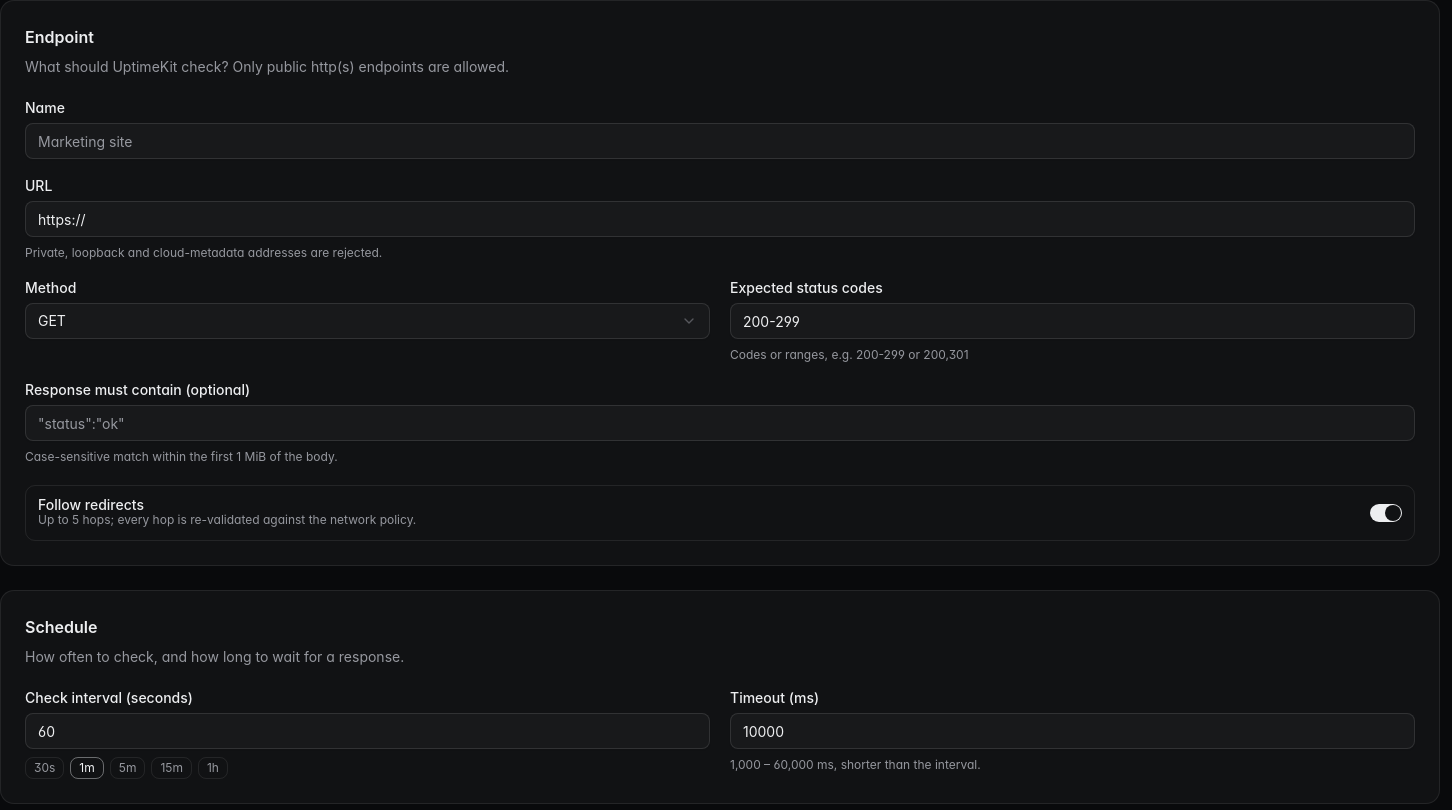
MonitorForm › shows server-side validation errors next to the offending field
The width and height of the screenshot is (1452, 810).
Type "Internal" into the field labelled "Name".
click(720, 141); type("Internal")  # box x1=25 y1=123 x2=1415 y2=159
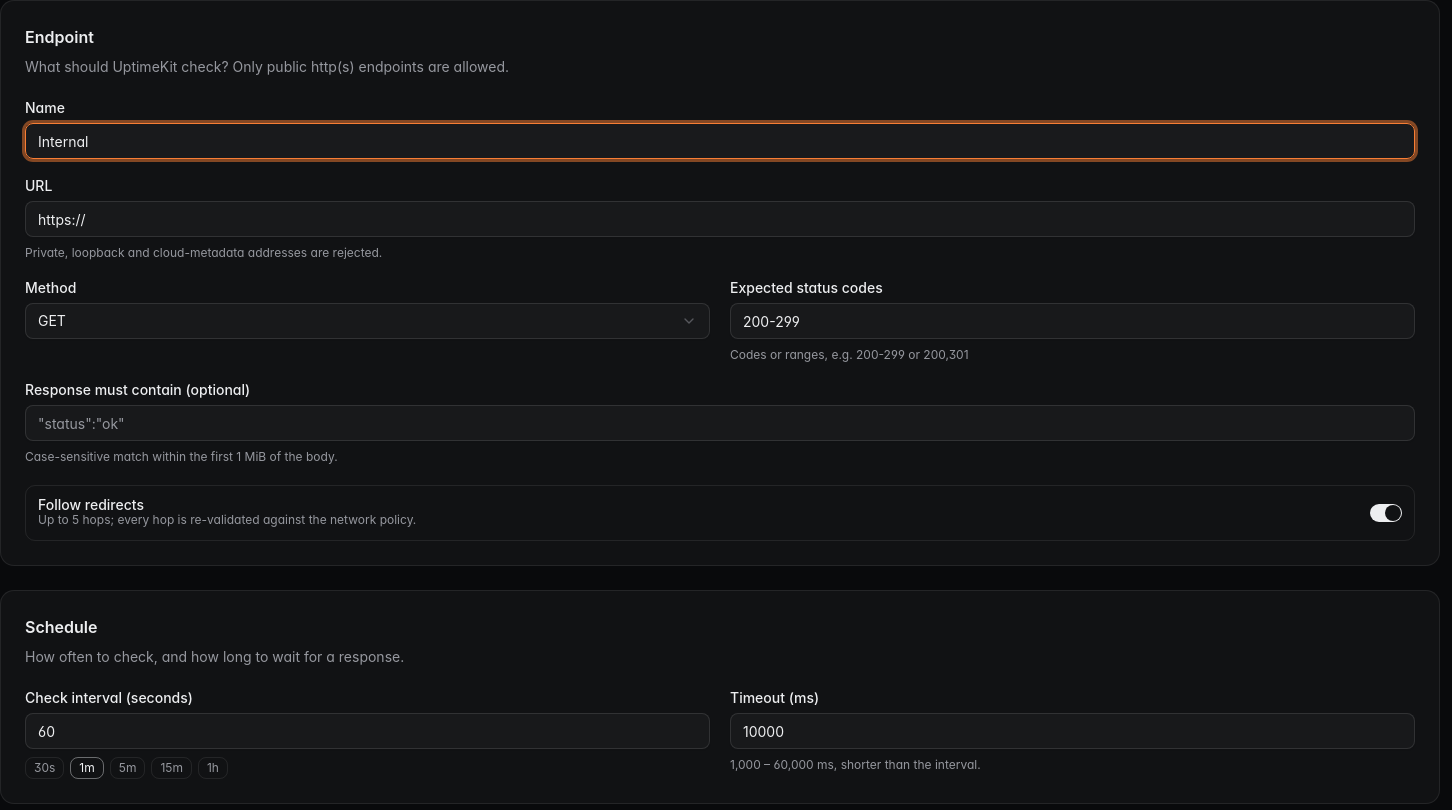
Replace the text in the field labelled "URL" with "http://localhost:8080" at (720, 219), box x1=25 y1=201 x2=1415 y2=237
(page scrolled)
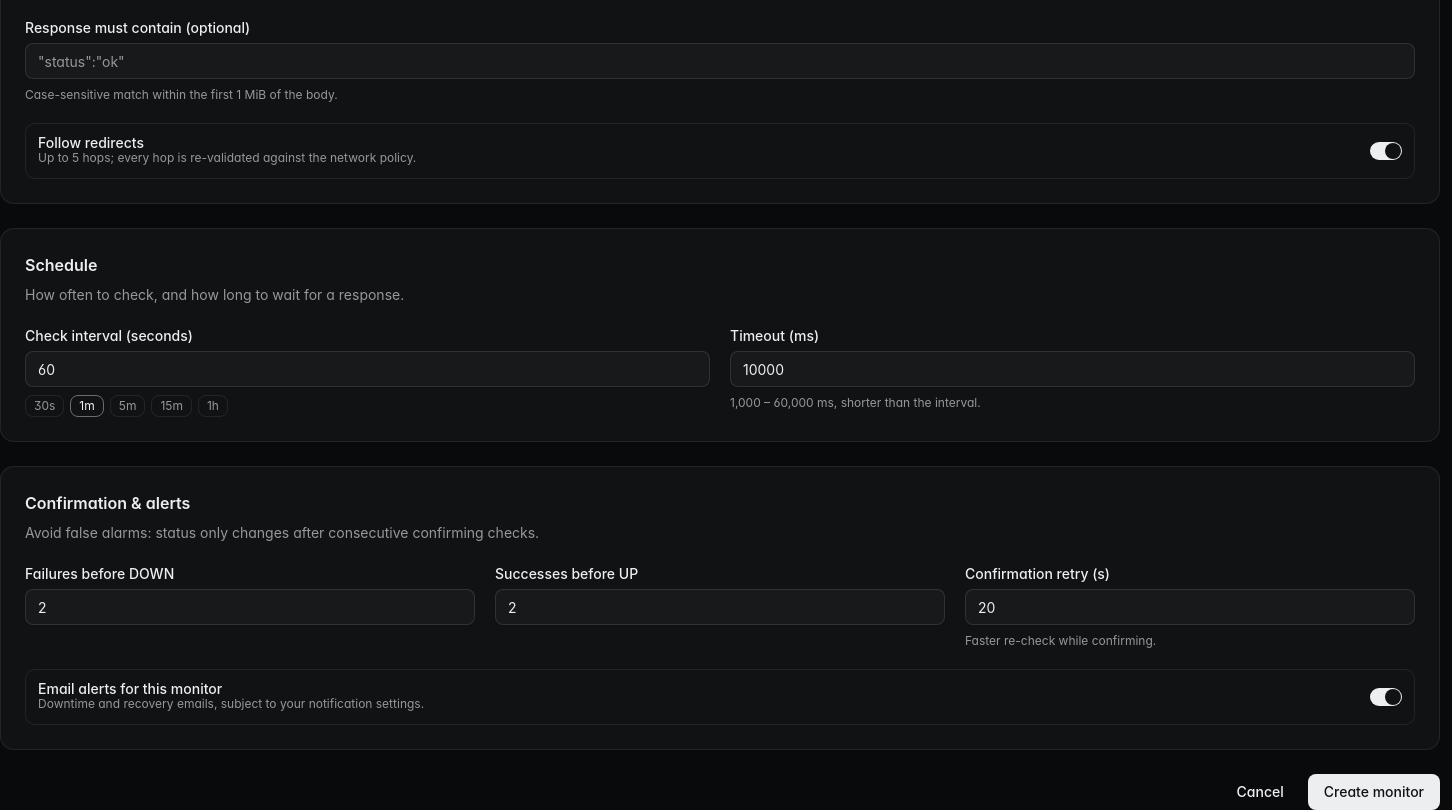
Click the button "Create monitor".
click(1374, 792)  # box x1=1308 y1=774 x2=1440 y2=809
(page scrolled)
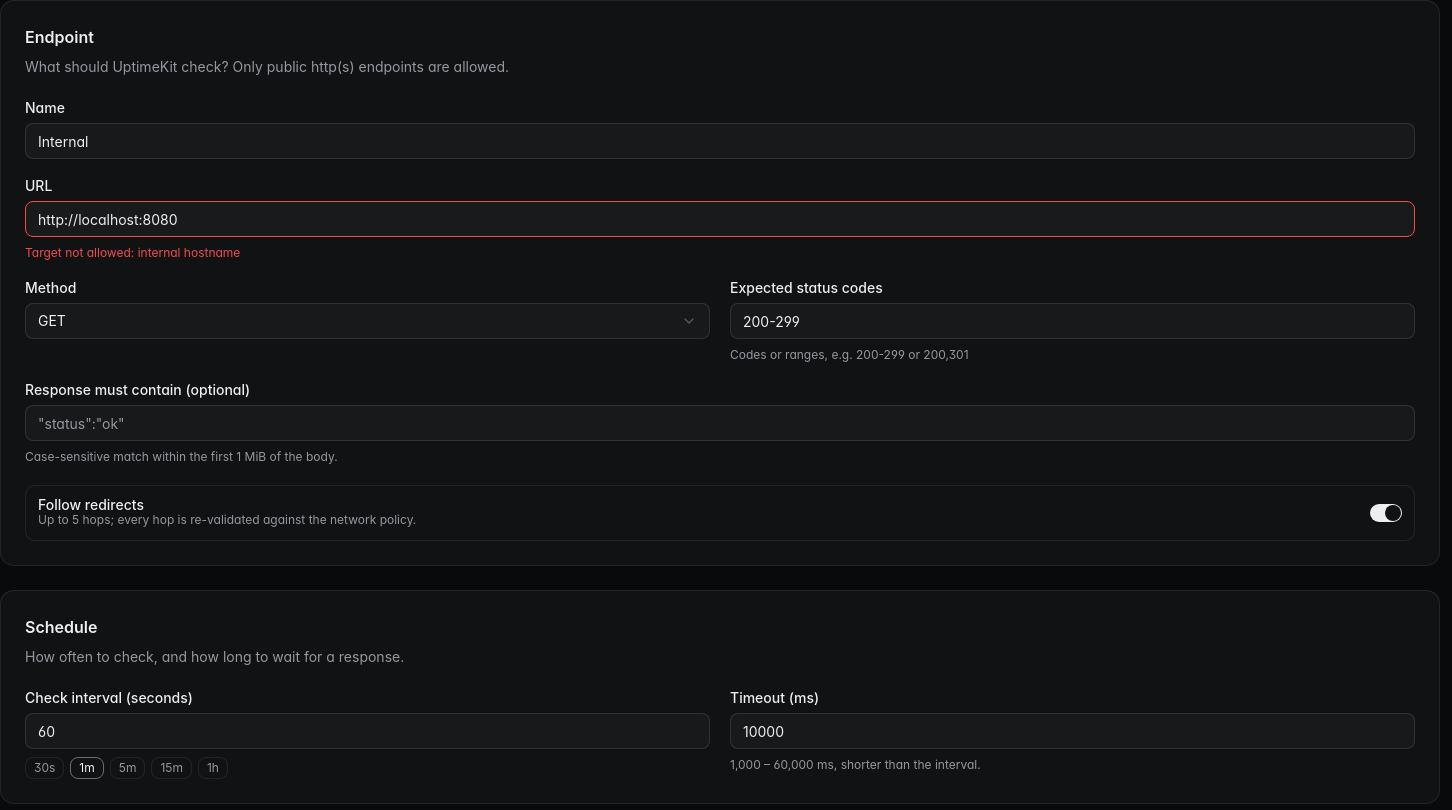
Expected: the text "Target not allowed: internal hostname" is shown, x1=25 y1=245 x2=240 y2=260
